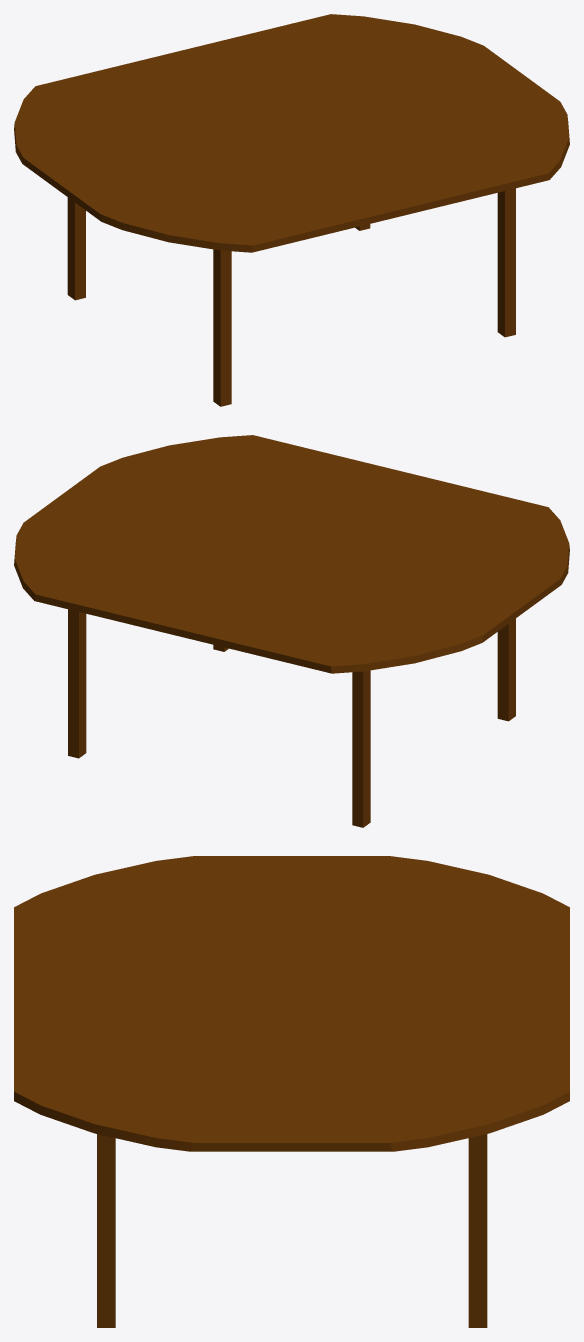
File: KitchenTable.FBX
3 views of the same model, one above another, from view 1: azimuth 30°, elevation 25°; view 2: azimuth 150°, elevation 25°; view 3: azimuth 270°, elevation 25° (orthographic). The views are drawn at different scales.
Parts seen in each view (by area): view 1: Box001, Box002, Box003, Box005; view 2: Box001, Box005, Box004, Box002; view 3: Box001, Box004, Box003.
Part boxes in pixels (box(x1,y1,x2,y2)): Box001: box(14, 14, 569, 252); Box002: box(213, 249, 231, 406); Box003: box(497, 188, 515, 337); Box005: box(67, 197, 85, 300); Box001: box(14, 435, 569, 673); Box005: box(352, 670, 370, 827); Box004: box(68, 609, 86, 758); Box002: box(497, 618, 515, 721); Box001: box(14, 856, 569, 1151); Box004: box(468, 1134, 487, 1327); Box003: box(97, 1134, 115, 1327).
Size of the model in its own units: 20.95 by 8.05 by 17.16.
